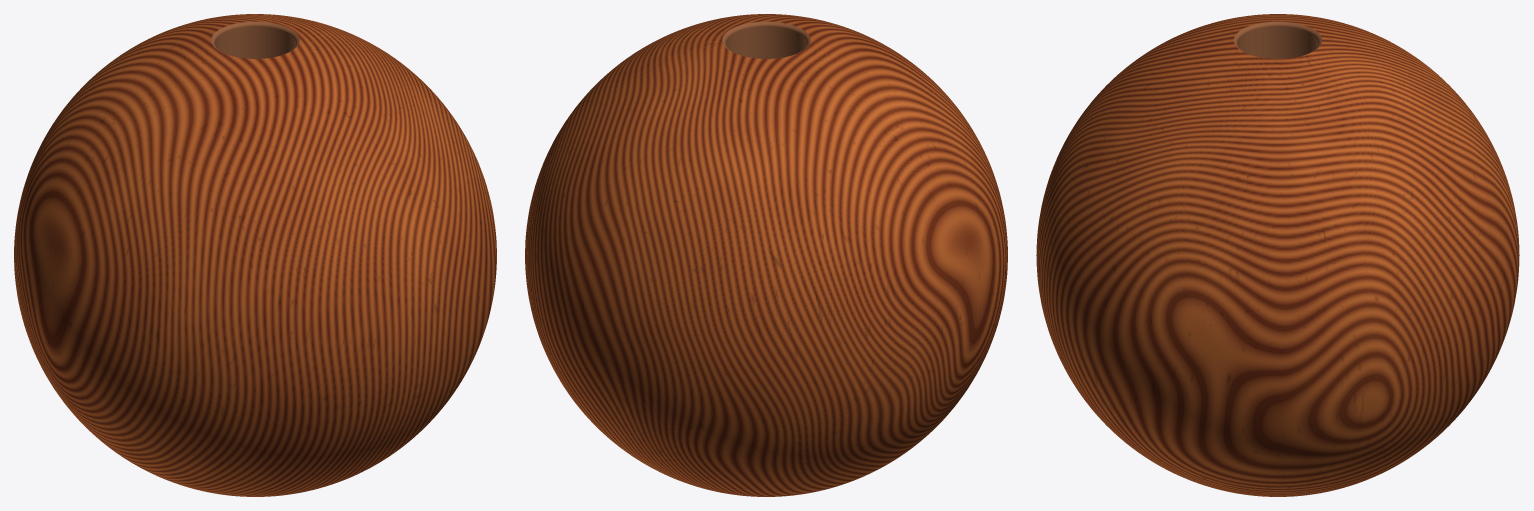
The model's file is wood-brazil-rosewood-6mm.glb.
3 views of the same model, side by side, from view 1: azimuth 30°, elevation 25°; view 2: azimuth 150°, elevation 25°; view 3: azimuth 270°, elevation 25° (orthographic).
Parts seen in each view (by area): view 1: brazil-rosewood; view 2: brazil-rosewood; view 3: brazil-rosewood.
Part boxes in pixels (x1,y1,x2,y2): brazil-rosewood: (14,14,496,496); brazil-rosewood: (525,14,1007,496); brazil-rosewood: (1036,14,1519,496).
Size of the model in its own units: 0.006 by 0.0059 by 0.006.
2 materials, 1 textured.
